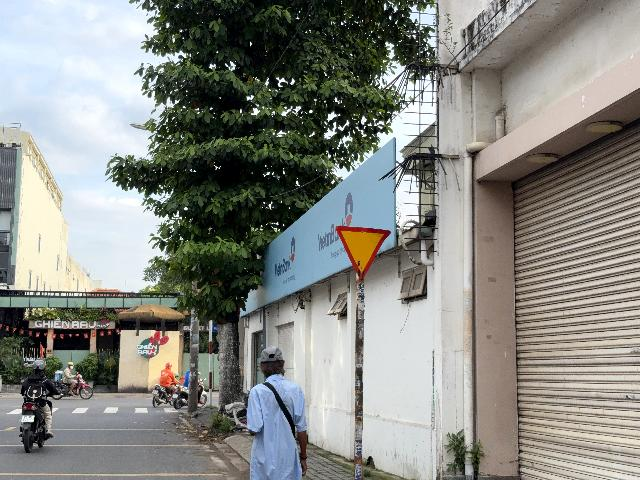giao-nhau-voi-duong-uu-tien: (336, 226, 391, 280)
